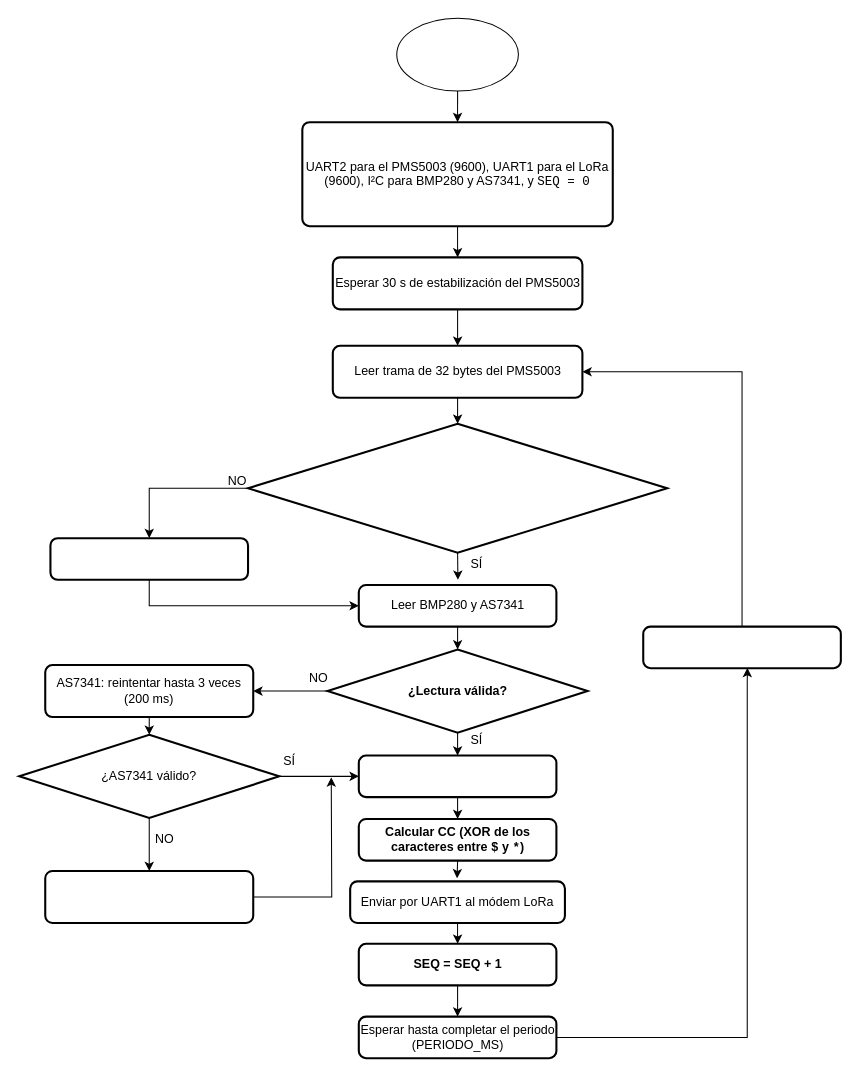
Some shapes in this 859 by 1077 pixel diagram are drawn without their labels. Each missing label, with the centre of its shape:
Armar trama $ID,SEQ,...*CC: the point at 457,776
AS7341 = -999; reinicializar en el siguiente ciclo: the point at 149,896
Inicio: the point at 457,54
PM = -999: the point at 149,558
Vaciar el buffer de UART2: the point at 741,647
¿Cabecera 0x42 0x4D y suma de verificación correctas?: the point at 457,487
